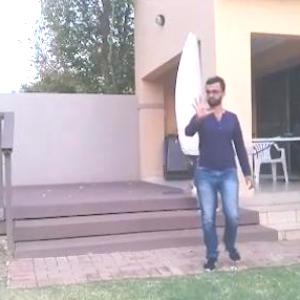follow_hand: (188, 89, 218, 124)
